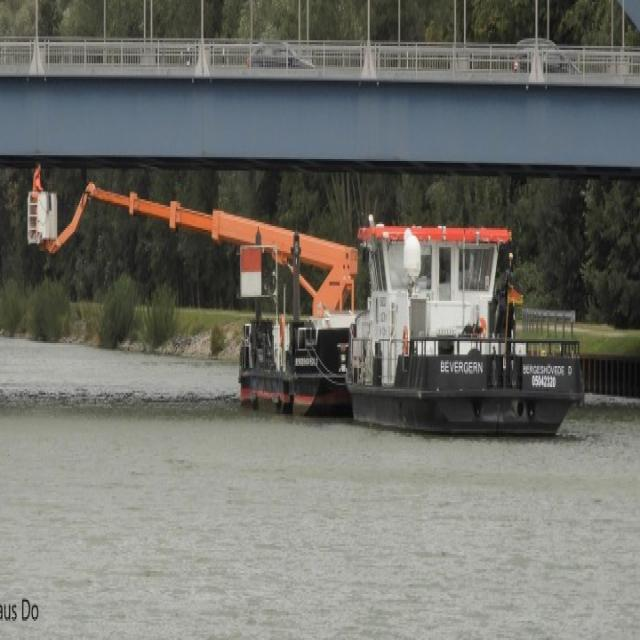tugboat: (341, 212, 589, 449)
